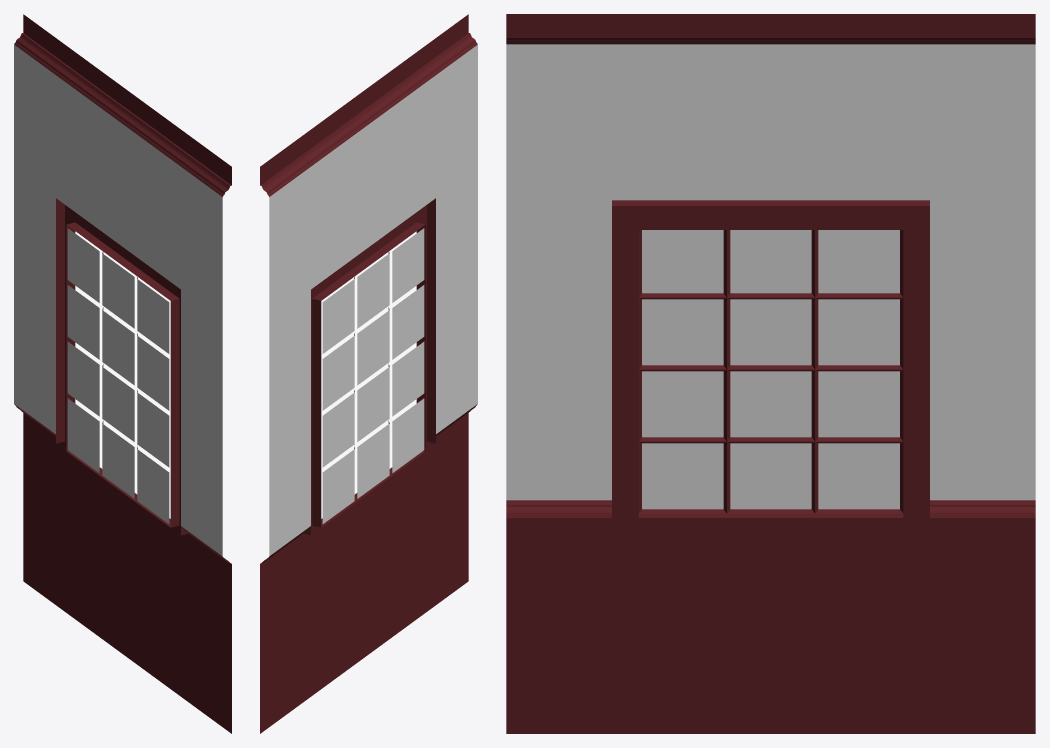
The model's file is sm_window_200_02.fbx.
The picture shows the model from 3 angles, left to right: view 1: azimuth 30°, elevation 25°; view 2: azimuth 150°, elevation 25°; view 3: azimuth 270°, elevation 25°; orthographic projection. The views are drawn at different scales.
Parts seen in each view (by area): view 1: sm_window_200_02; view 2: sm_window_200_02; view 3: sm_window_200_02.
Part boxes in pixels (x1,y1,x2,y2): sm_window_200_02: [14, 14, 231, 733]; sm_window_200_02: [260, 14, 477, 733]; sm_window_200_02: [506, 14, 1035, 733].
Size of the model in its own units: 5 by 300 by 200.
